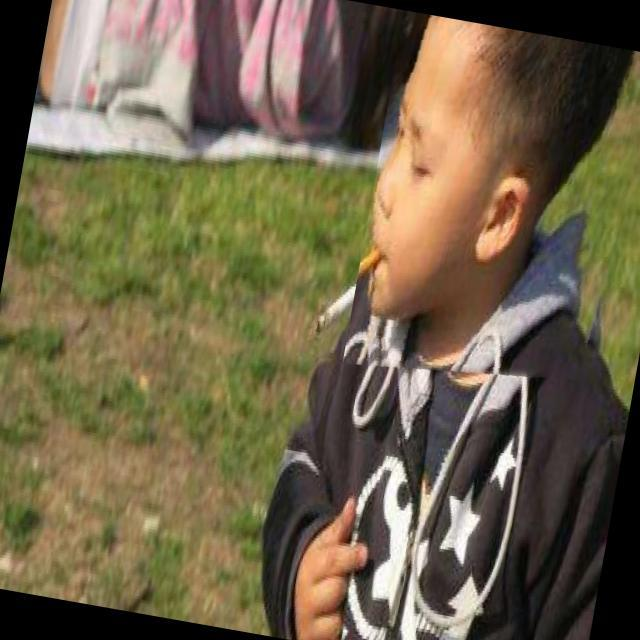cigarette: (294, 216, 412, 372)
